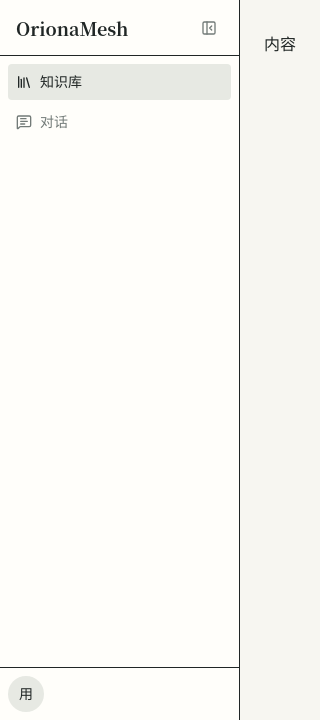
AppShell 桌面应用壳与键盘导航 › 折叠导航后链接保留可访问名称，切换按钮反映展开状态
Click the button named "折叠导航": [209, 28] box [191,10,227,46]
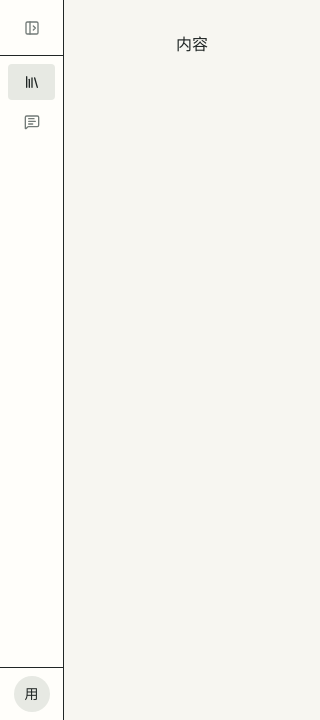
expect the button named "展开导航" is collapsed: met
expect the link "知识库" is gone: met
Note: 再次点击展开恢复
Click the button named "展开导航": [32, 28] box [14,10,50,46]
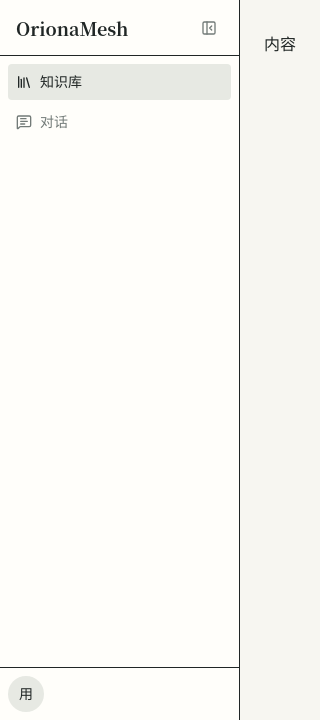
expect the link "知识库" is shown: met, box [8,64,231,100]
